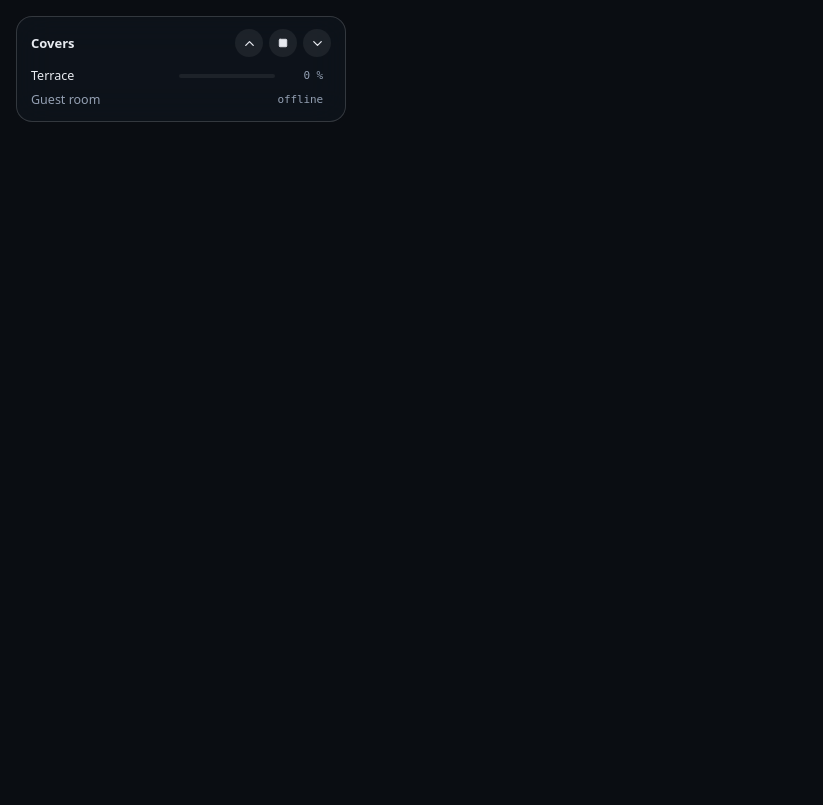
it: says which cover of a card could not go, and what kept the house from it
Click the button named "Open all" at (249, 43), box [235,29,263,57]
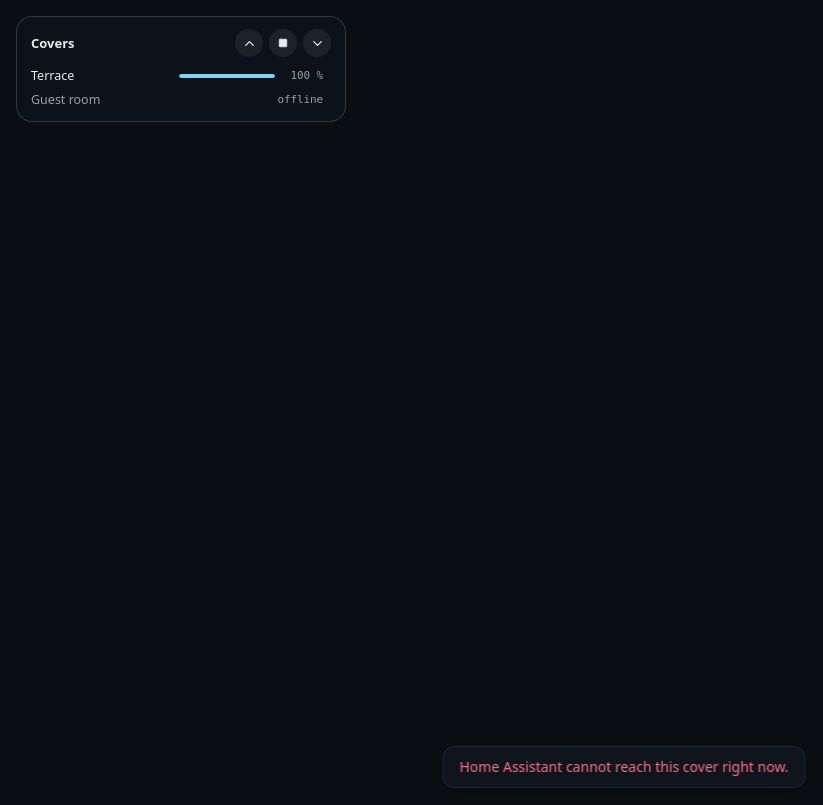
Result: the text "Home Assistant cannot reach this cover right now." is shown at [442,746,806,788]
